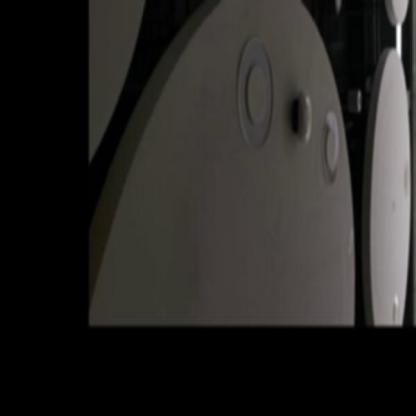light_off: (235, 20, 276, 164), (316, 90, 342, 188)
